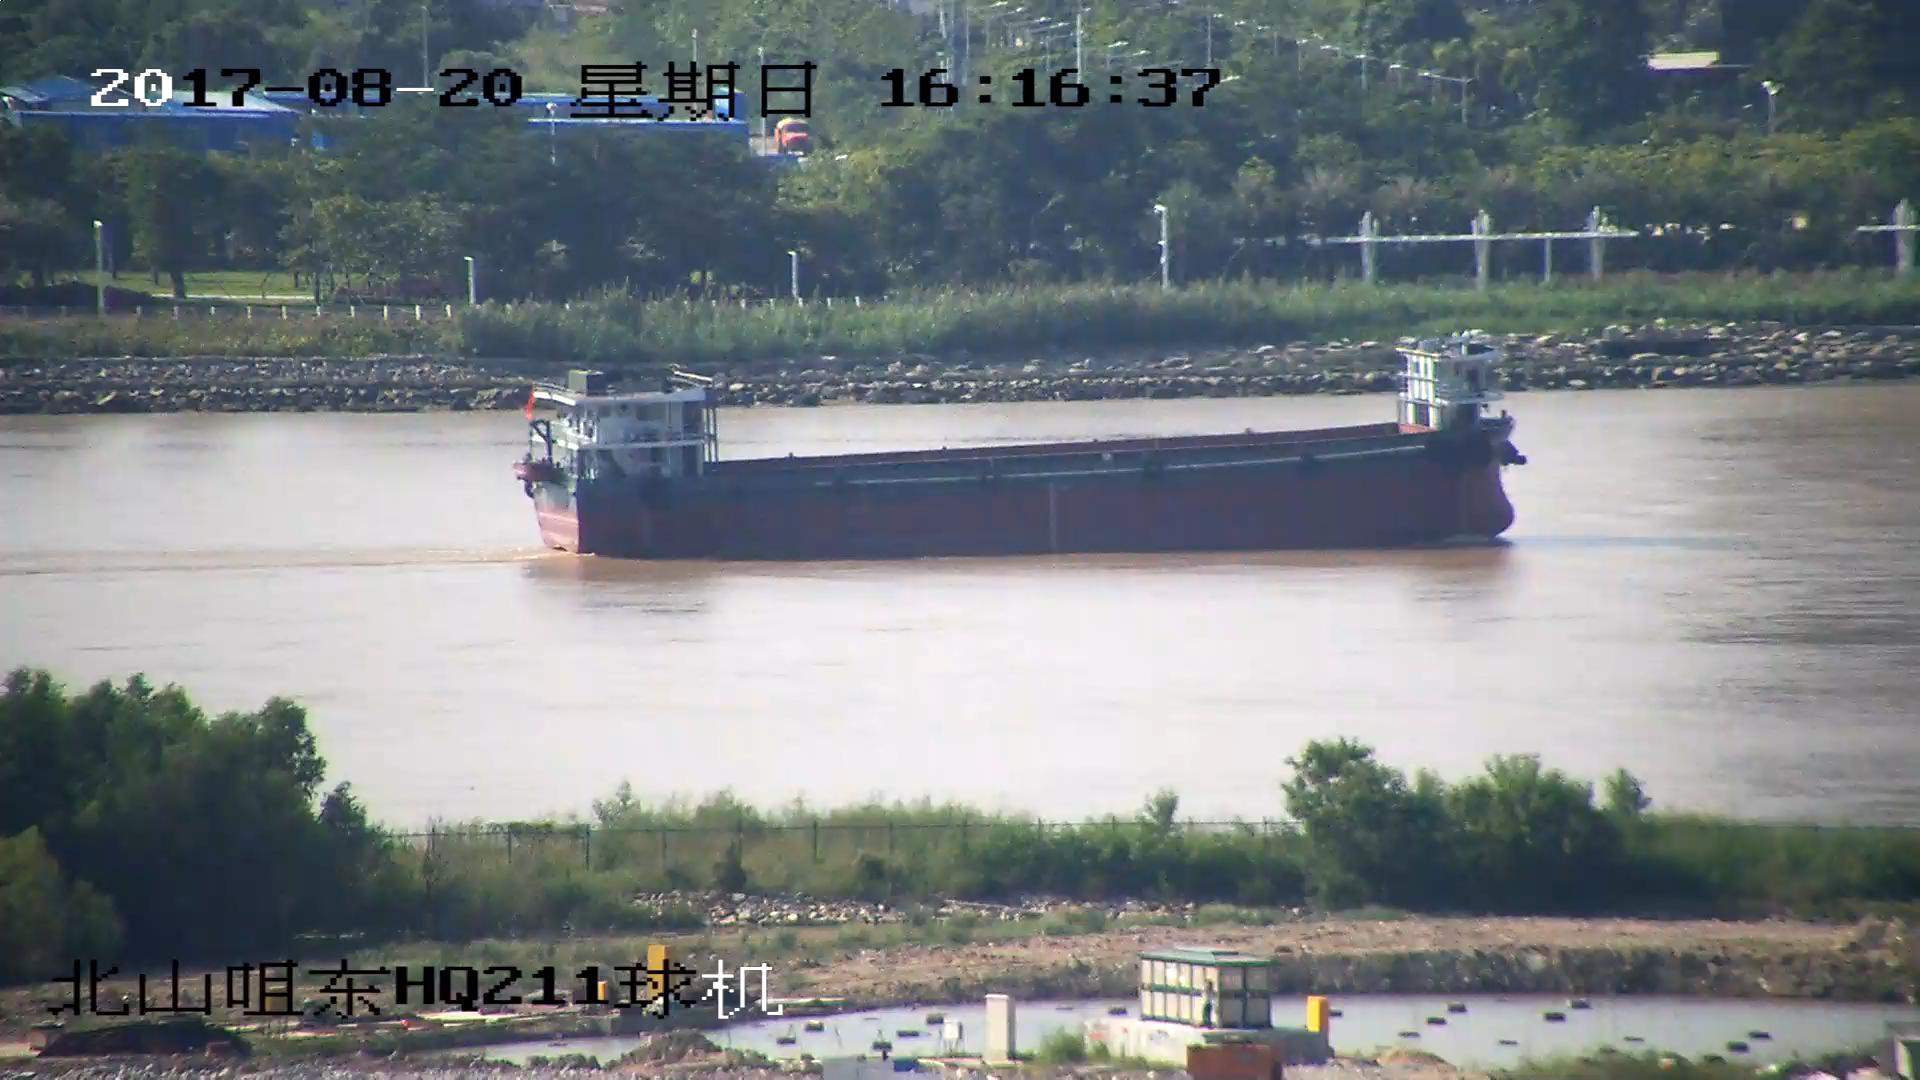Ship: (524, 345, 1520, 553)
